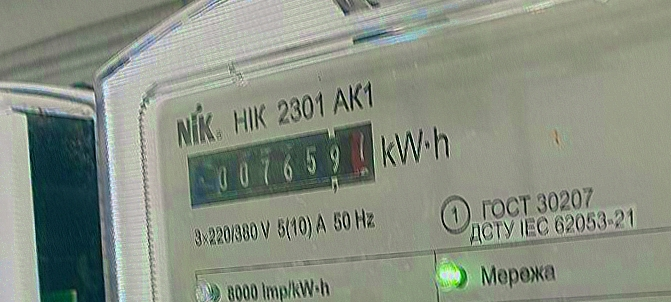0: (216, 162, 230, 190), (237, 160, 251, 187)
1: (355, 131, 367, 163)
5: (303, 144, 319, 176)
6: (281, 151, 295, 182)
7: (258, 153, 273, 186)
9: (327, 141, 343, 175)
screen: (173, 115, 395, 213)
